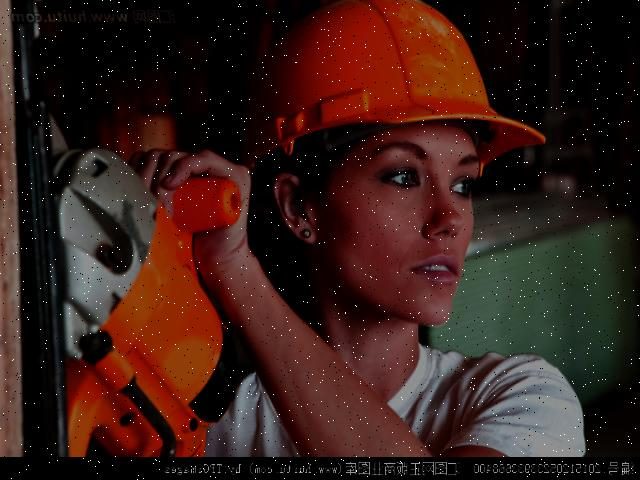Helmet: (228, 0, 553, 185)
